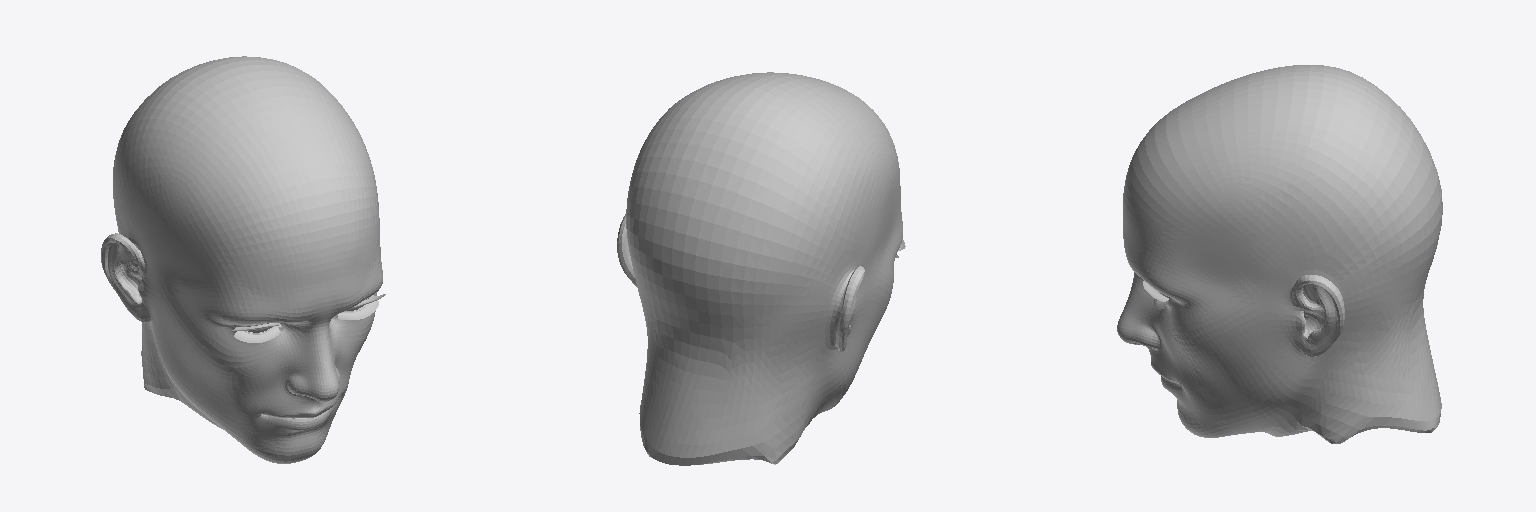
Rendered from HeadObjF.obj.
3 renders of one model, left to right at view 1: azimuth 30°, elevation 25°; view 2: azimuth 150°, elevation 25°; view 3: azimuth 270°, elevation 25°, orthographic.
Parts seen in each view (by area): view 1: Left, Right; view 2: Left, Right; view 3: Right, Left.
Part boxes in pixels (left/top/right/bottom): Left: left=101, top=59, right=330, bottom=463; Right: left=220, top=56, right=382, bottom=461; Left: left=657, top=76, right=905, bottom=465; Right: left=617, top=72, right=806, bottom=459; Right: left=1117, top=76, right=1442, bottom=443; Left: left=1125, top=65, right=1442, bottom=424.
Bounding box in the file's own units: 27.04 × 38.21 × 31.54.